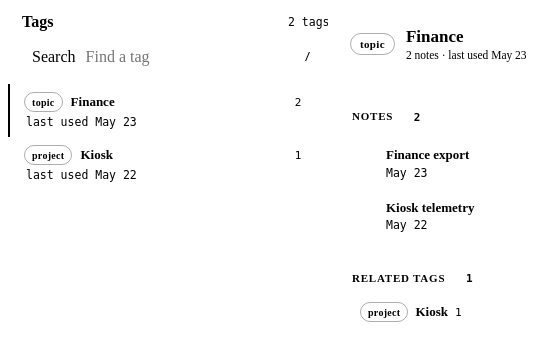
Test: TagsView › filters the tag list by search text
In the field named "Search tags": (186, 57) [84, 47, 288, 67], type "kiosk"
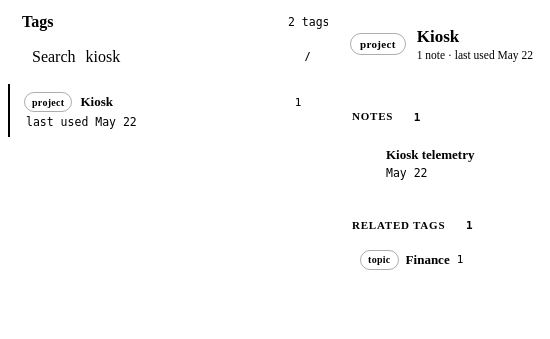
Expected: the button with aria-label "Select Kiosk" is shown, [8, 84, 328, 137]
Expected: the heading "Kiosk" is shown, [417, 27, 459, 46]
